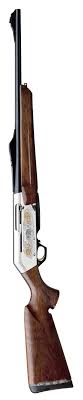gun: (4, 6, 74, 394)
